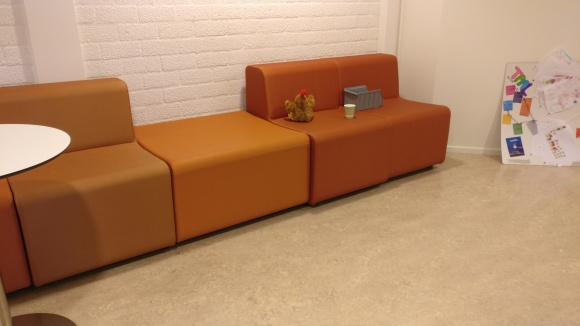chicken: (284, 88, 316, 123)
cup: (343, 103, 356, 120)
tray: (343, 84, 383, 111)
